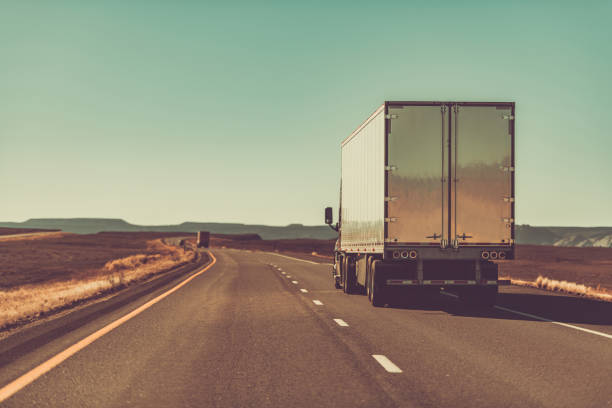Semi: (324, 100, 514, 309)
